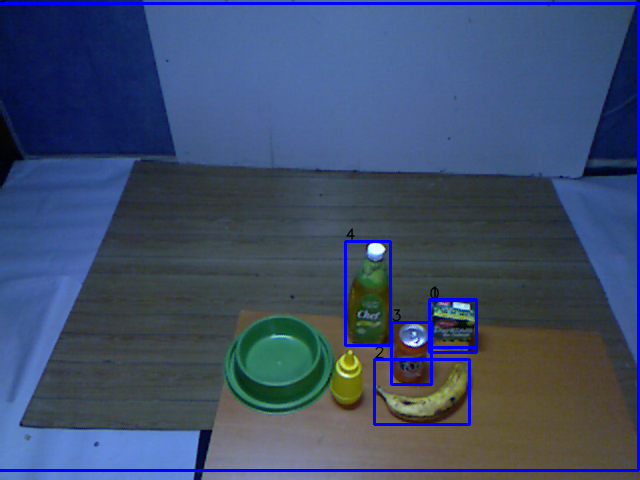aceite: (343, 240, 397, 352)
durazno: (423, 292, 481, 359)
lata: (390, 320, 432, 386)
mostaza: (325, 345, 369, 415)
platano: (371, 361, 479, 427)
platoperro: (221, 308, 336, 414)
